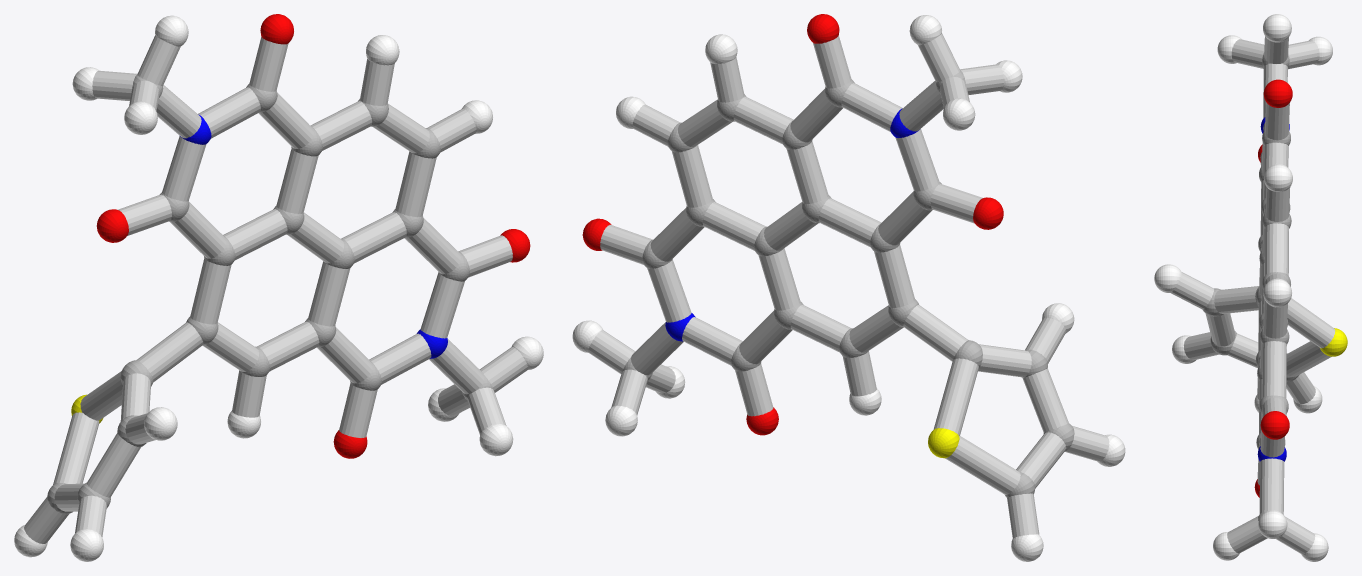
Rendered from Dimethyl_Naphthalene_Dicarboximide_Phi_30_Theta_290_Thiophene.glb.
3 views of the same model, side by side, from view 1: azimuth 30°, elevation 25°; view 2: azimuth 150°, elevation 25°; view 3: azimuth 270°, elevation 25° (orthographic). The views are drawn at different scales.
Visible parts, largest first — view 1: grp14119, grp7241, grp1, grp12309, grp11585; view 2: grp14119, grp7241, grp1, grp12309, grp13757, grp11585; view 3: grp14119, grp7241, grp1, grp12309, grp13757.
Boxes of the visible parts, left/top/right/bottom form: grp14119: left=24, top=35, right=528, bottom=543; grp7241: left=14, top=15, right=543, bottom=561; grp1: left=47, top=74, right=493, bottom=514; grp12309: left=96, top=14, right=530, bottom=458; grp11585: left=180, top=114, right=447, bottom=358; grp14119: left=588, top=33, right=1109, bottom=538; grp7241: left=572, top=15, right=1125, bottom=561; grp1: left=622, top=70, right=1074, bottom=497; grp12309: left=582, top=14, right=1003, bottom=435; grp13757: left=928, top=428, right=959, bottom=458; grp11585: left=665, top=108, right=918, bottom=341; grp14119: left=1171, top=36, right=1335, bottom=554; grp7241: left=1154, top=14, right=1332, bottom=561; grp1: left=1203, top=53, right=1299, bottom=520; grp12309: left=1254, top=79, right=1292, bottom=497; grp13757: left=1320, top=328, right=1347, bottom=356.
Size of the model in its own units: 10.65 by 10.22 by 3.99.
